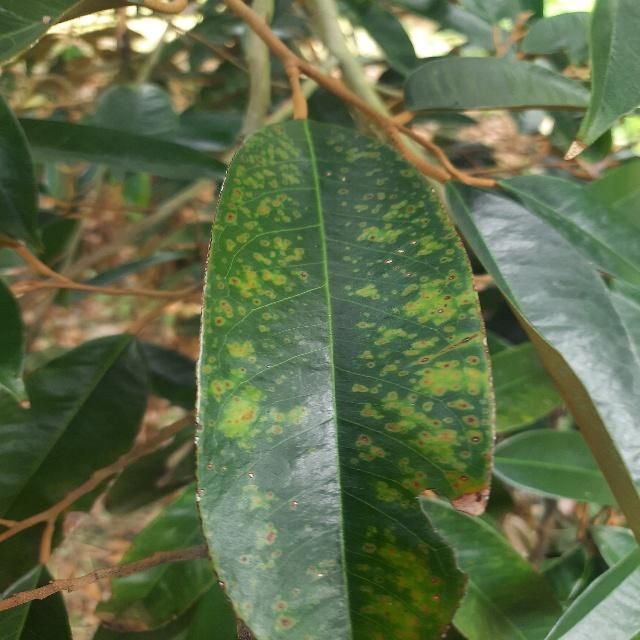Leaf Spot: (183, 99, 509, 640)
